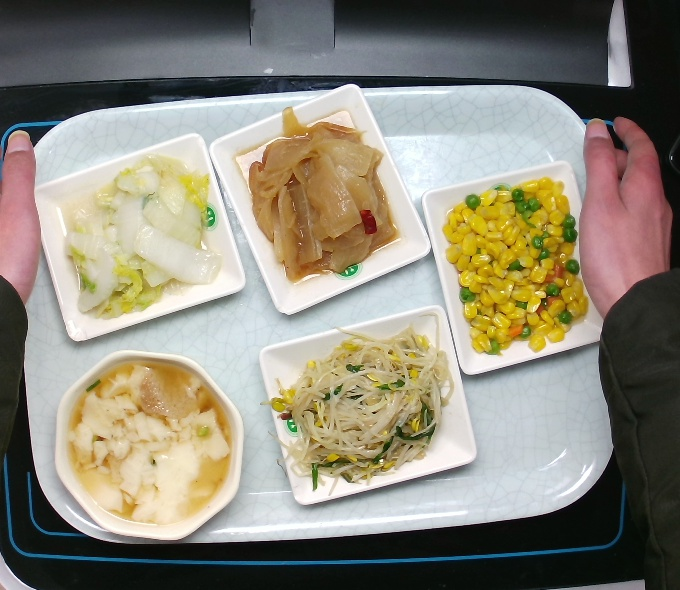wcq-DaBaiCai: (49, 150, 222, 322)
wcq-DongGua: (230, 103, 407, 289)
wcq-DouYa: (257, 310, 457, 499)
wcq-ShuiZhengDan: (65, 357, 236, 527)
wcq-TianMiTianDou: (440, 173, 592, 359)
